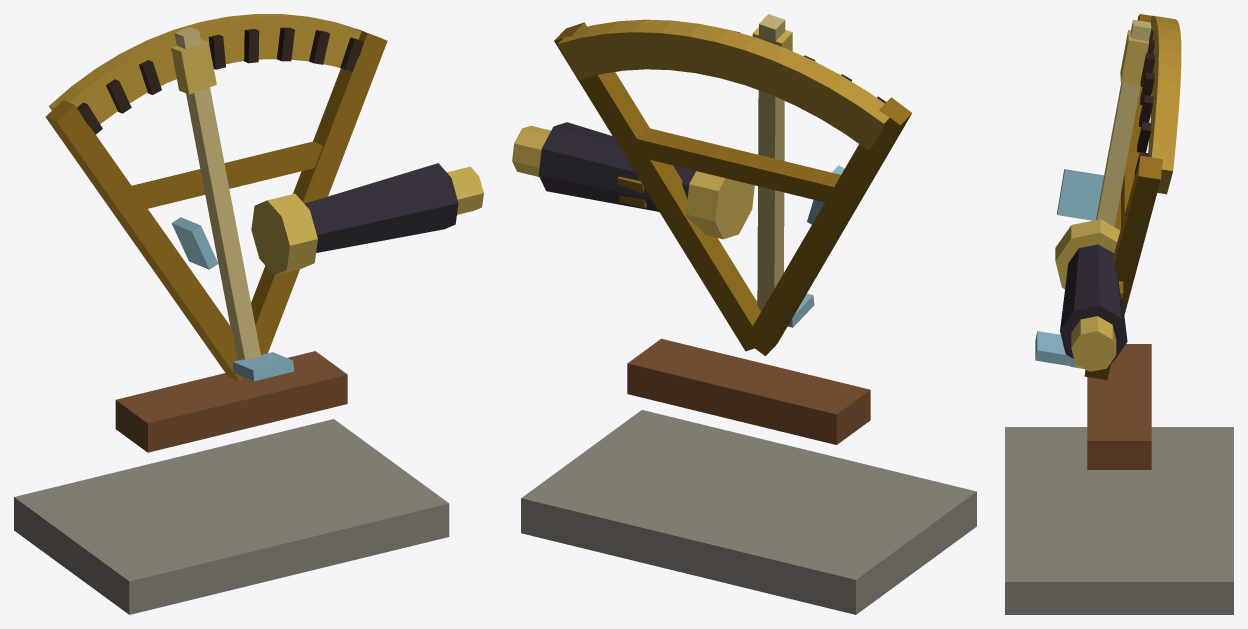
Rendered from sextant.glb.
3 renders of one model, left to right at view 1: azimuth 30°, elevation 25°; view 2: azimuth 150°, elevation 25°; view 3: azimuth 270°, elevation 25°, orthographic. The views are drawn at different scales.
Parts seen in each view (by area): view 1: sextant; view 2: sextant; view 3: sextant.
Part boxes in pixels (bbox=[...]): sextant: bbox=[14, 14, 483, 614]; sextant: bbox=[512, 14, 976, 614]; sextant: bbox=[1005, 14, 1233, 614].
Bounding box in the file's own units: 0.9838 × 1.2 × 0.5.
